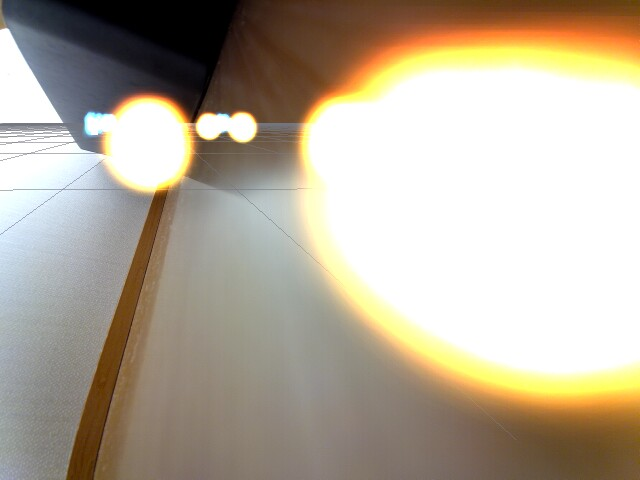firebig: (354, 36, 640, 396)
